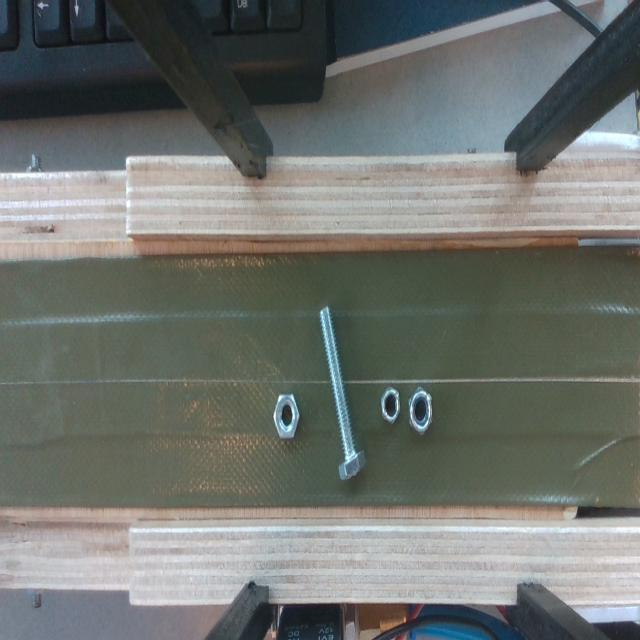Bolt: (314, 302, 376, 484)
Nut: (404, 385, 439, 437), (272, 396, 302, 443), (376, 386, 402, 426)
